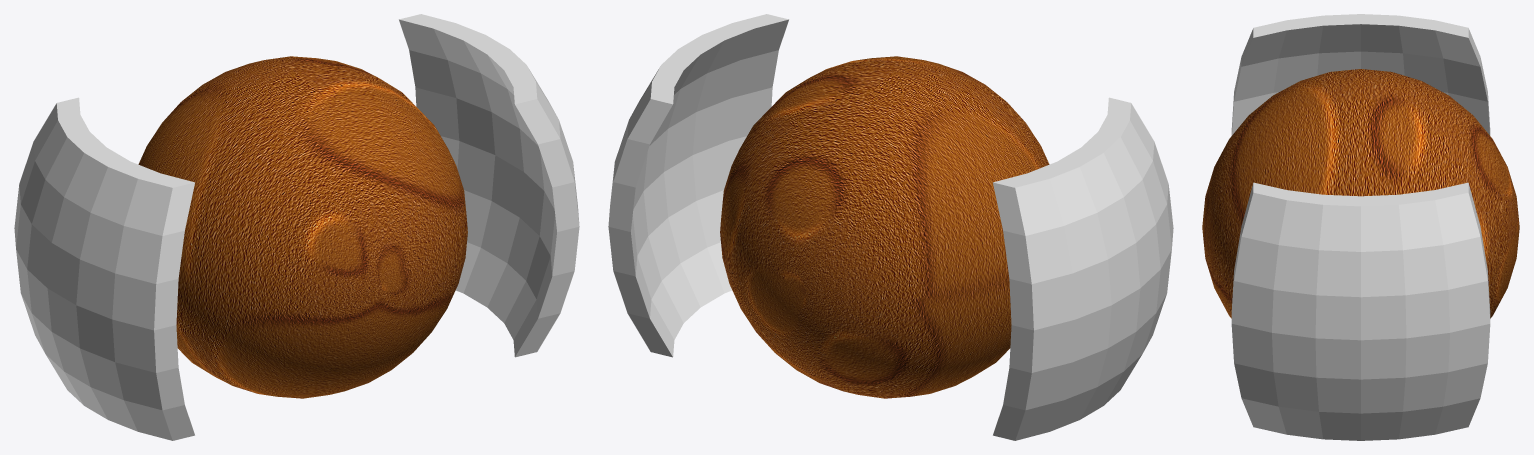
File: bomber.fbx
3 renders of one model, left to right at view 1: azimuth 30°, elevation 25°; view 2: azimuth 150°, elevation 25°; view 3: azimuth 270°, elevation 25°, orthographic. The views are drawn at different scales.
Parts seen in each view (by area): view 1: Bombmer, Shield; view 2: Bombmer, Shield; view 3: Shield, Bombmer.
Part boxes in pixels (x1,y1,x2,y2): Bombmer: (138, 56, 467, 398); Shield: (14, 14, 579, 440); Bombmer: (720, 56, 1049, 398); Shield: (608, 14, 1173, 440); Shield: (1231, 14, 1490, 440); Bombmer: (1202, 69, 1519, 318).
Bounding box in the file's own units: 336 × 200 × 200.
